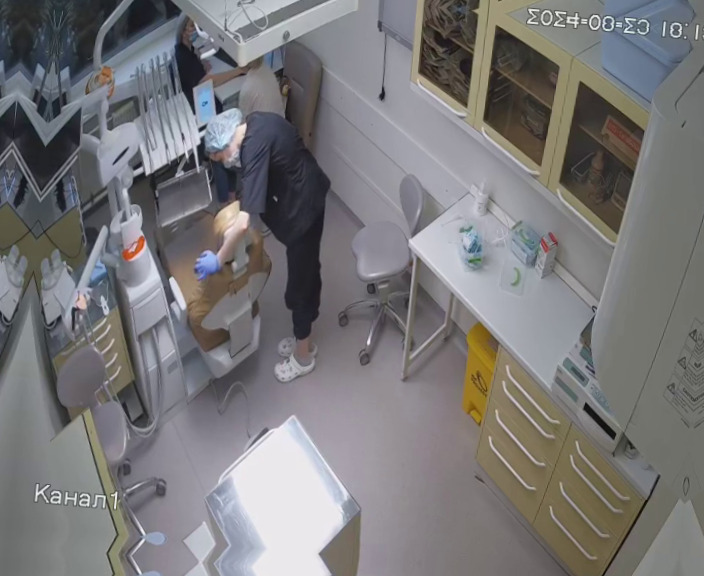Empty: (159, 192, 277, 384)
